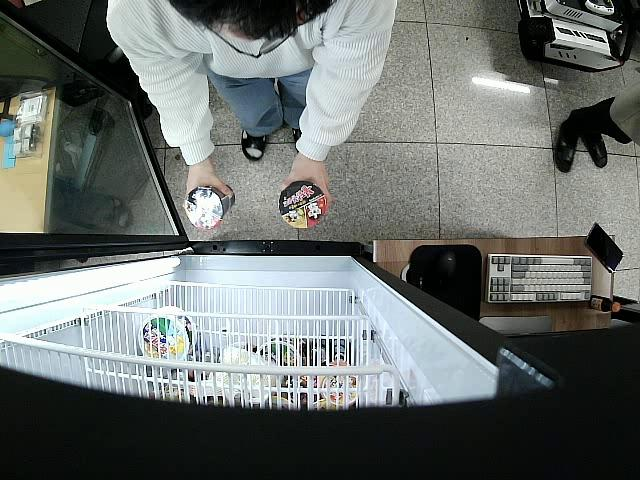00_hand: (280, 157, 332, 214), (186, 166, 231, 201)
08_buldak_S: (184, 184, 236, 230), (279, 182, 327, 229)
